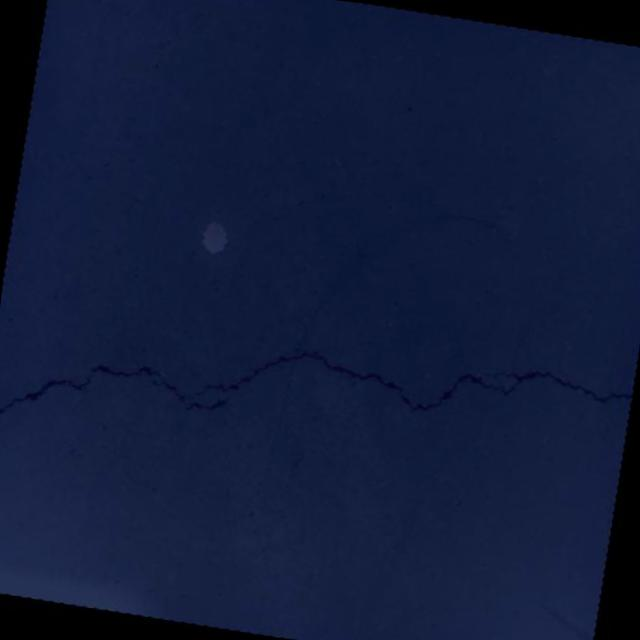crack: (0, 284, 637, 525)
